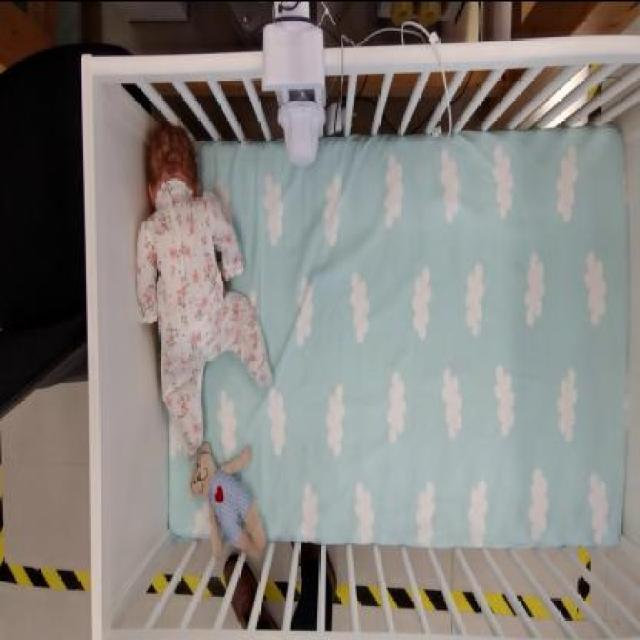baby: (132, 122, 276, 459)
